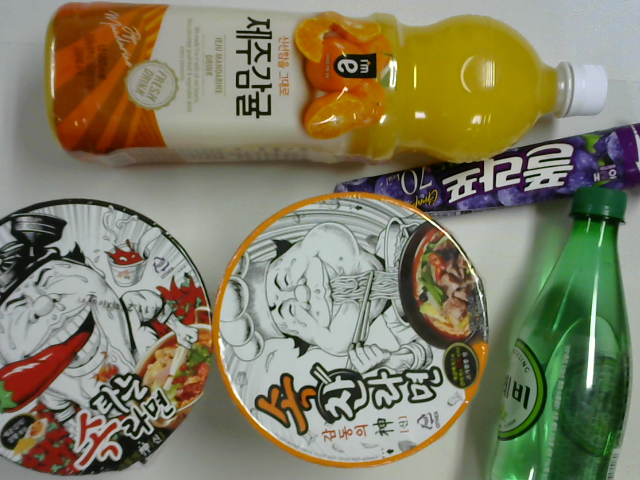HeJangsock: (1, 203, 211, 474)
Hejangchan: (217, 198, 483, 456)
Jeju_Tangerine_1.5L: (44, 1, 609, 165)
Polapo_Grape: (331, 119, 640, 217)
Treviraim_500ml: (490, 188, 630, 480)
